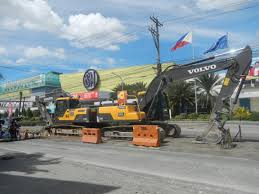excavator: (95, 44, 253, 145), (32, 96, 94, 136)
